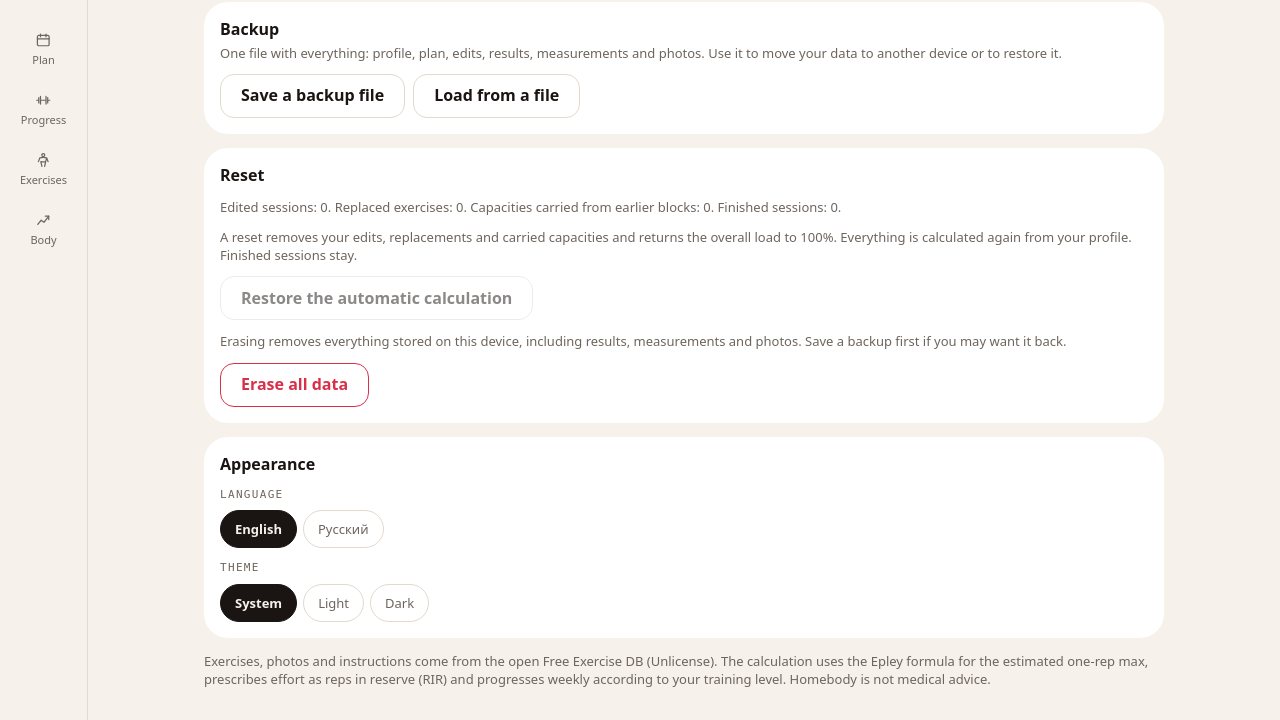
Test case: App shell › switches the interface language and remembers the choice
(page scrolled)
Click the radio button labelled "Русский". click: (343, 529)
box: [303,510,384,548]
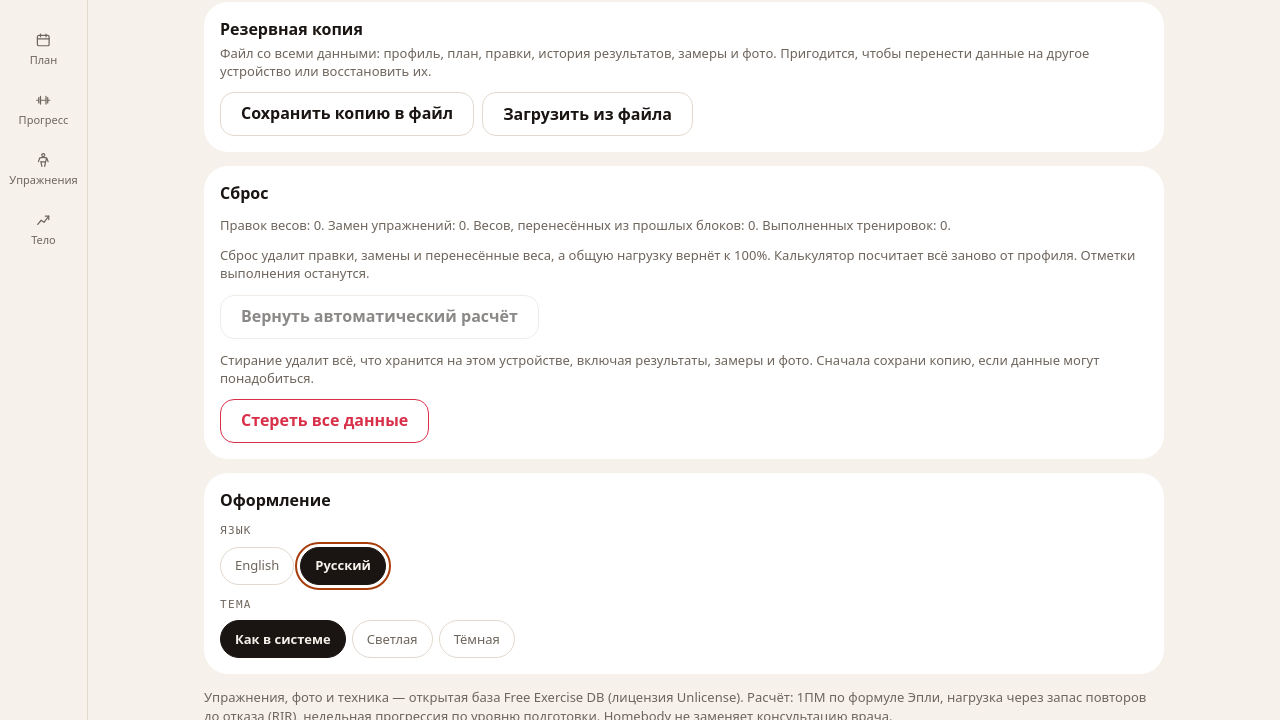
Check: the navigation bar named "Разделы" is shown, box [0,0,88,719]
